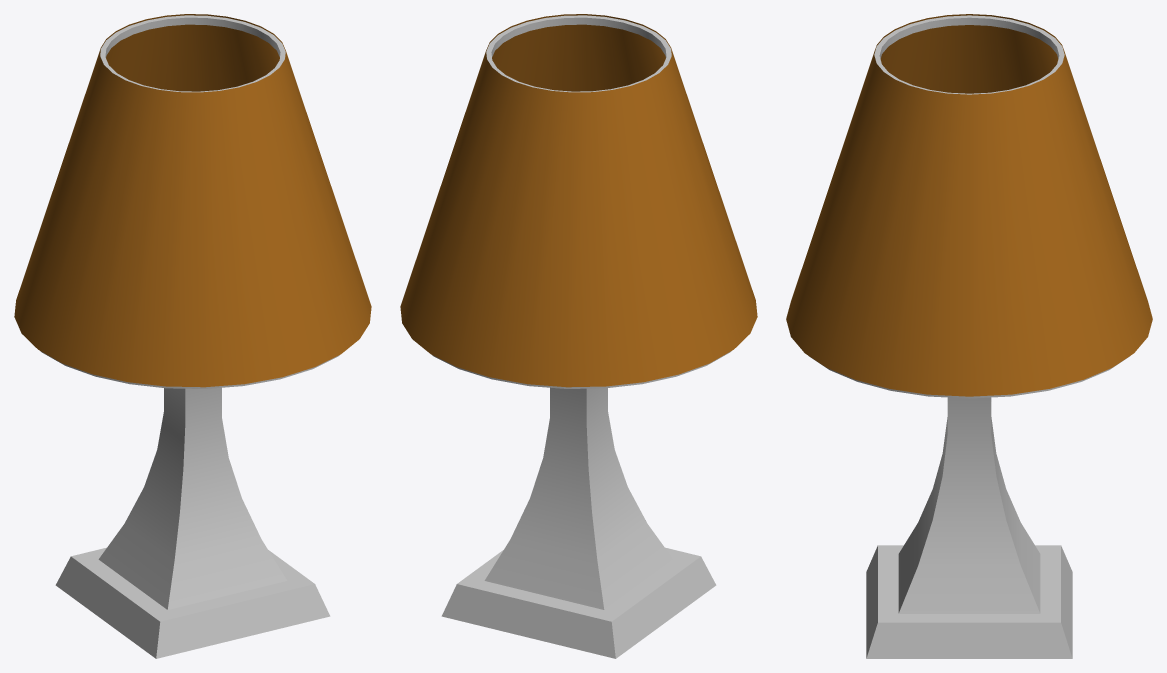
File: lampshade.fbx
3 views of the same model, side by side, from view 1: azimuth 30°, elevation 25°; view 2: azimuth 150°, elevation 25°; view 3: azimuth 270°, elevation 25° (orthographic). The views are drawn at different scales.
Visible parts, largest first — view 1: Circle001, Cylinder001; view 2: Circle001, Cylinder001; view 3: Circle001, Cylinder001.
Part boxes in pixels (left/top/right/bottom): Circle001: left=14, top=14, right=371, bottom=387; Cylinder001: left=40, top=15, right=339, bottom=658; Circle001: left=400, top=14, right=757, bottom=387; Cylinder001: left=432, top=15, right=731, bottom=658; Circle001: left=786, top=14, right=1152, bottom=396; Cylinder001: left=809, top=15, right=1129, bottom=658.
Bounding box in the file's own units: 75.93 × 128 × 75.93.
